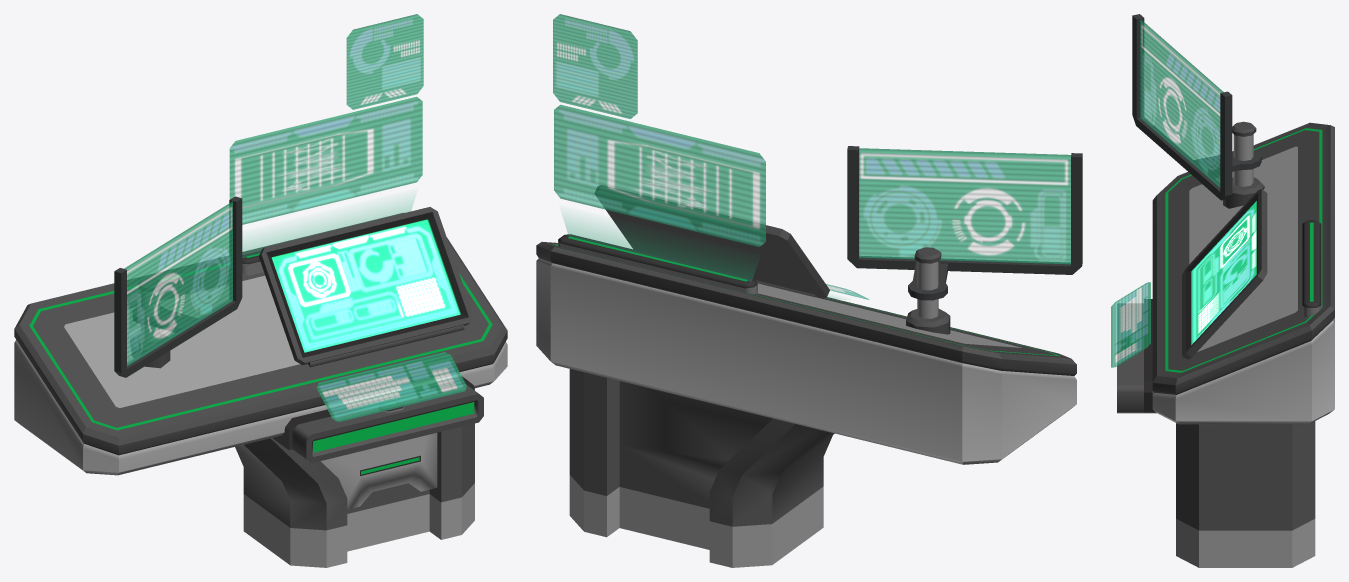
The model's file is Terminal_010.glb.
3 views of the same model, side by side, from view 1: azimuth 30°, elevation 25°; view 2: azimuth 150°, elevation 25°; view 3: azimuth 270°, elevation 25° (orthographic). The views are drawn at different scales.
Parts seen in each view (by area): view 1: Terminal_010, Holo_tex_1.011; view 2: Terminal_010; view 3: Terminal_010.
Boxes of the visible parts, x1=… form: Terminal_010: x1=14, y1=14, x2=507, y2=567; Holo_tex_1.011: x1=272, y1=379, x2=473, y2=449; Terminal_010: x1=536, y1=14, x2=1082, y2=567; Terminal_010: x1=1111, y1=14, x2=1334, y2=567.
Bounding box in the file's own units: 2.04 × 2.14 × 0.9374.
Materials: 5 (5 with a texture image).
